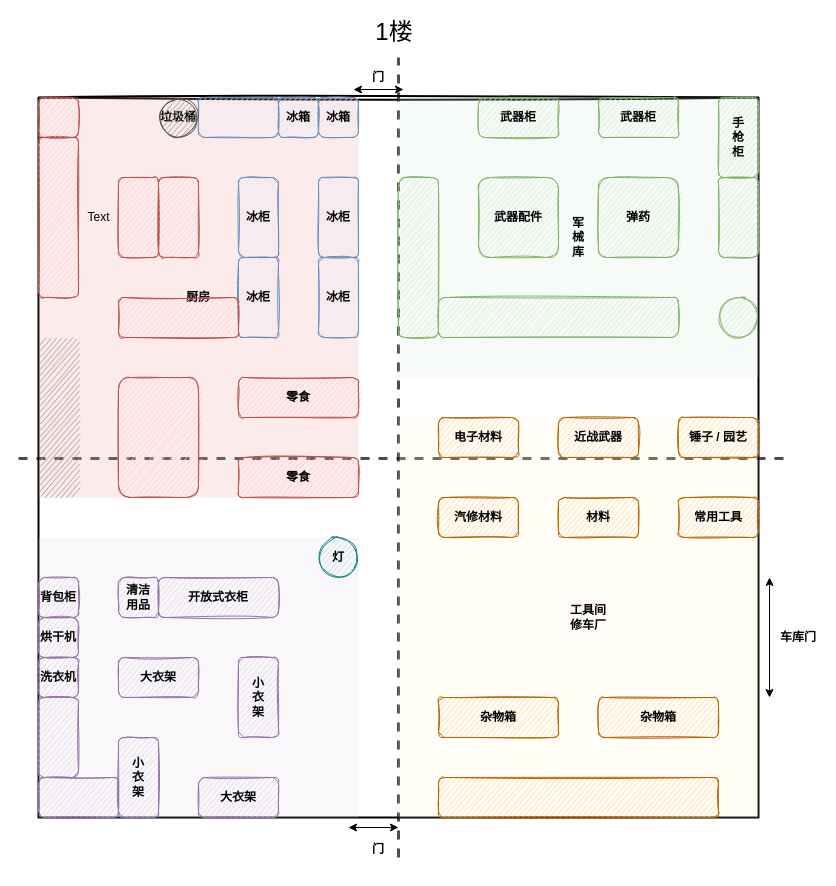
This 836x886 diagram has some shape labels left out. The centre of each missing label's shape, as x and y in pixels:
冷冻架: the point at 238,117
桌子 椅子: the point at 158,437
楼 梯: the point at 58,417
绿植: the point at 738,317
